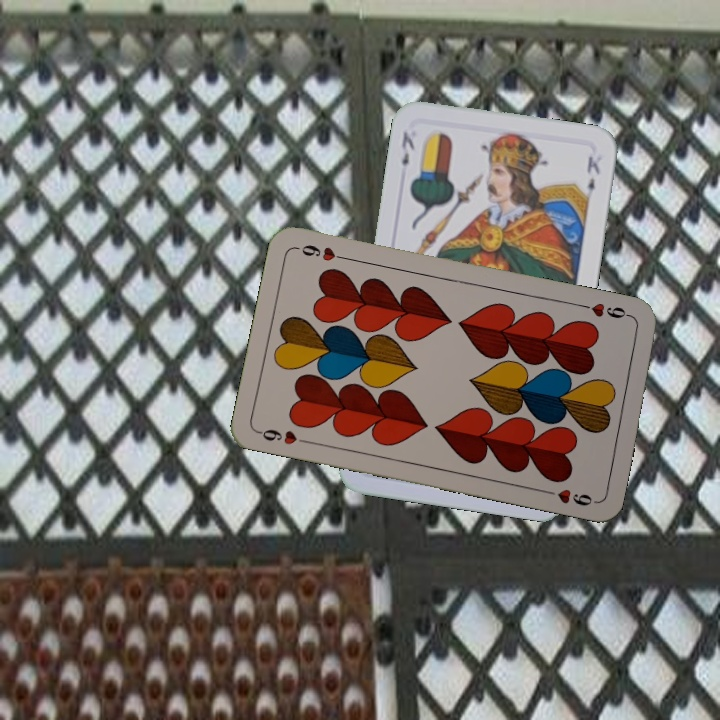EK: (397, 127, 417, 169)
H9: (577, 298, 636, 322), (254, 425, 313, 447)
